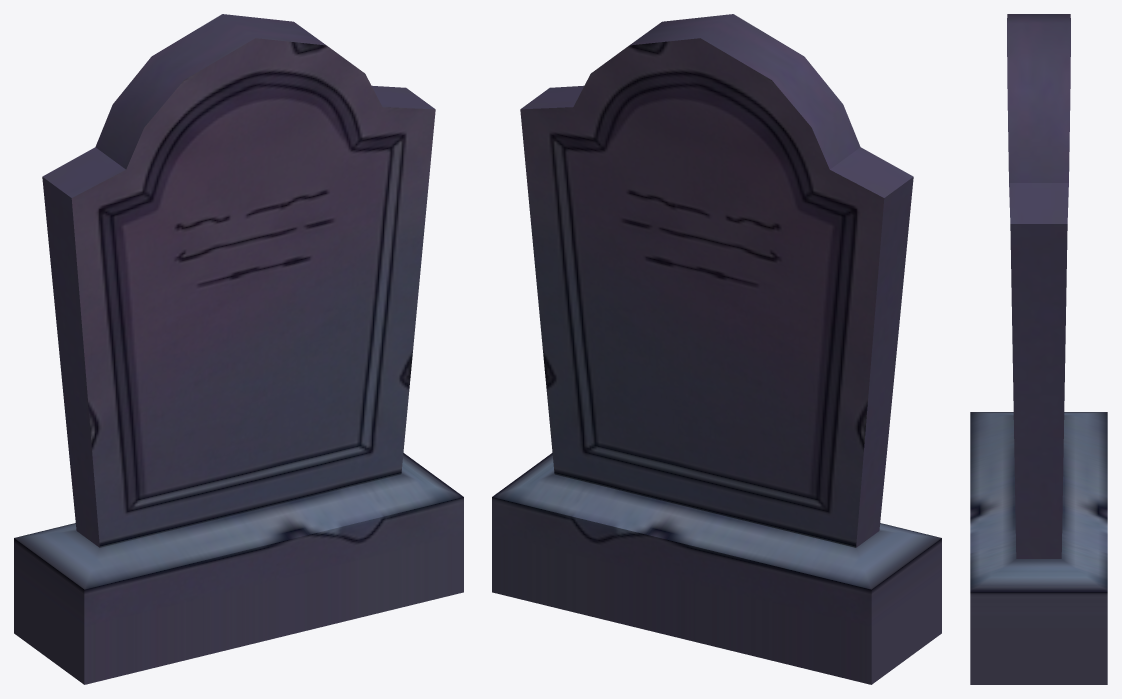
The model's file is Gravestone05.glb.
The picture shows the model from 3 angles, left to right: view 1: azimuth 30°, elevation 25°; view 2: azimuth 150°, elevation 25°; view 3: azimuth 270°, elevation 25°; orthographic projection. The views are drawn at different scales.
Parts seen in each view (by area): view 1: Gravestone05; view 2: Gravestone05; view 3: Gravestone05.
Boxes of the visible parts, x1,y1,x2,y2 form: Gravestone05: (14,14,463,684); Gravestone05: (492,14,941,684); Gravestone05: (970,14,1107,684).
Size of the model in its own units: 4.1 by 6.06 by 1.32.
Materials: 1 (1 with a texture image).
